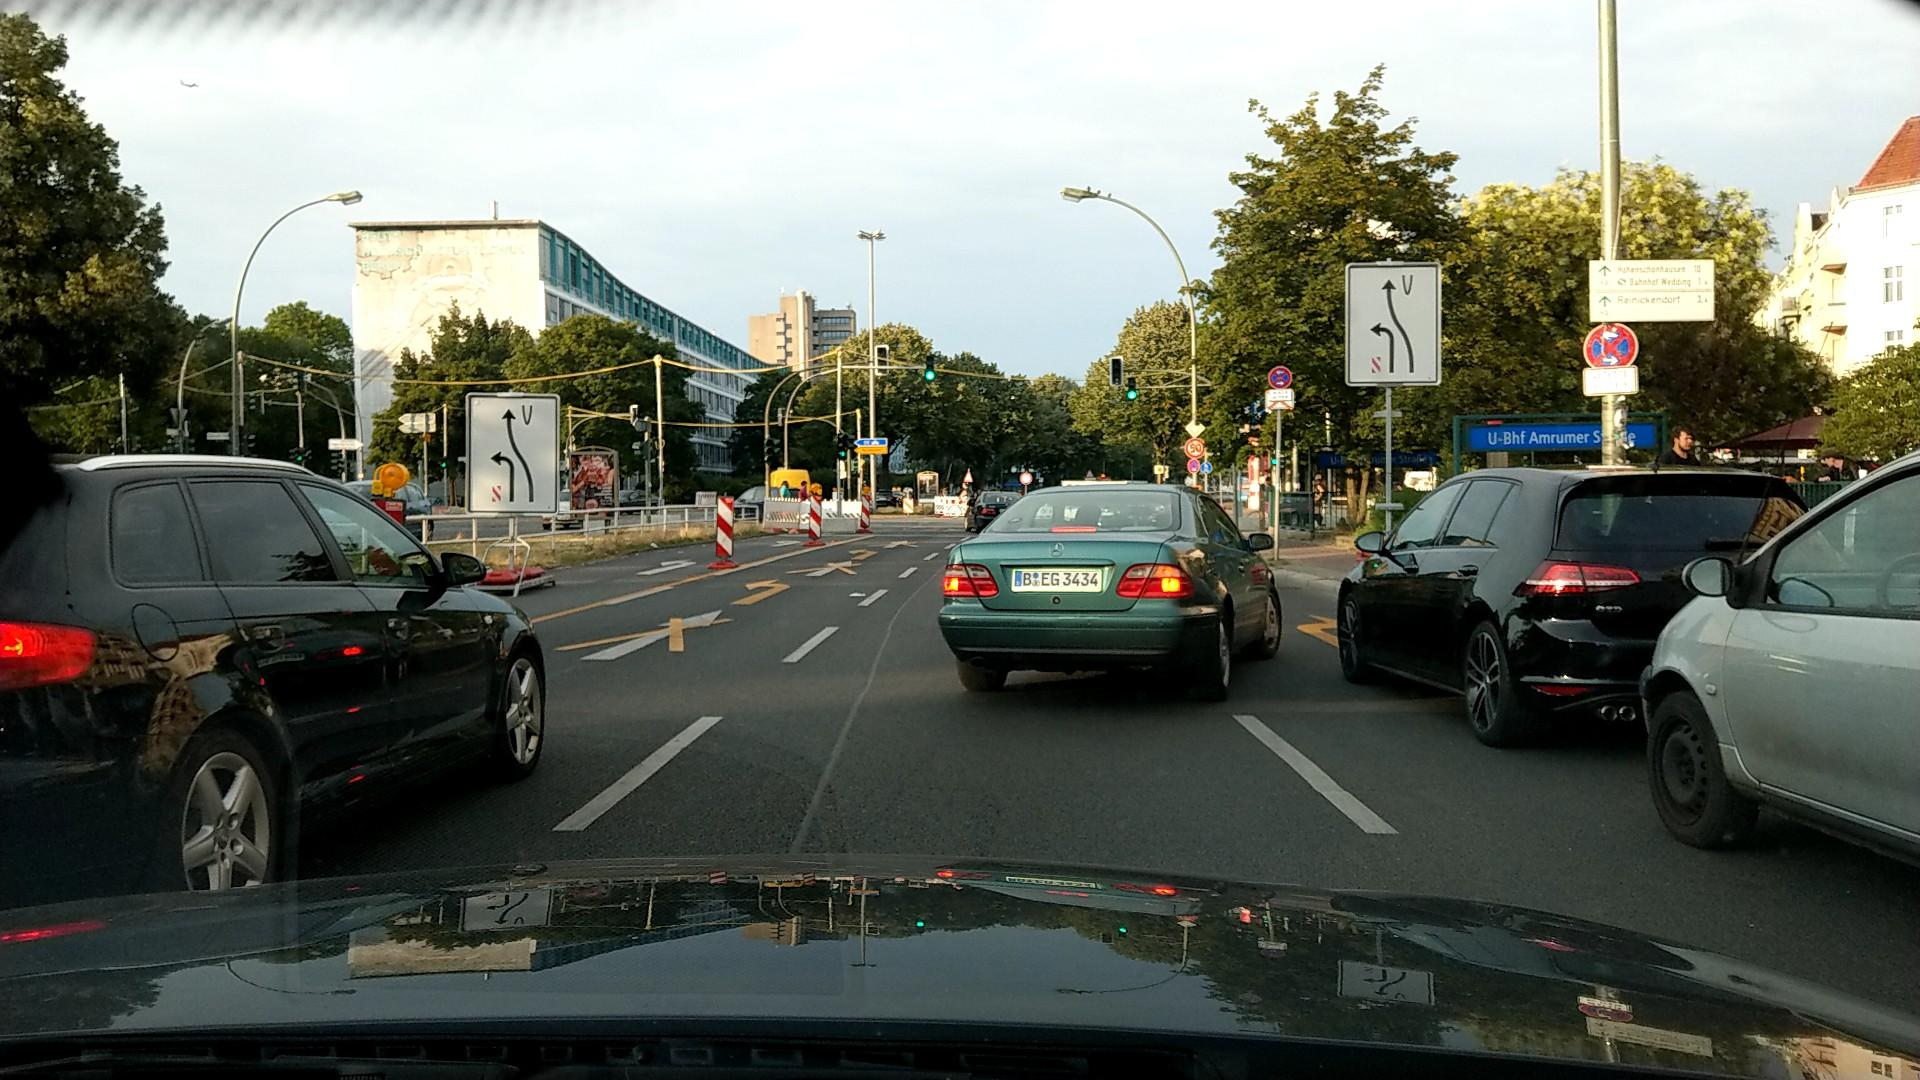Human face: (1672, 424, 1694, 453)
Vehicle registration plate: (1013, 571, 1104, 592)
